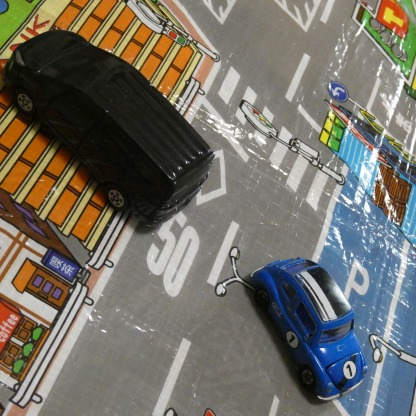car: (7, 31, 209, 228), (247, 254, 368, 399)
